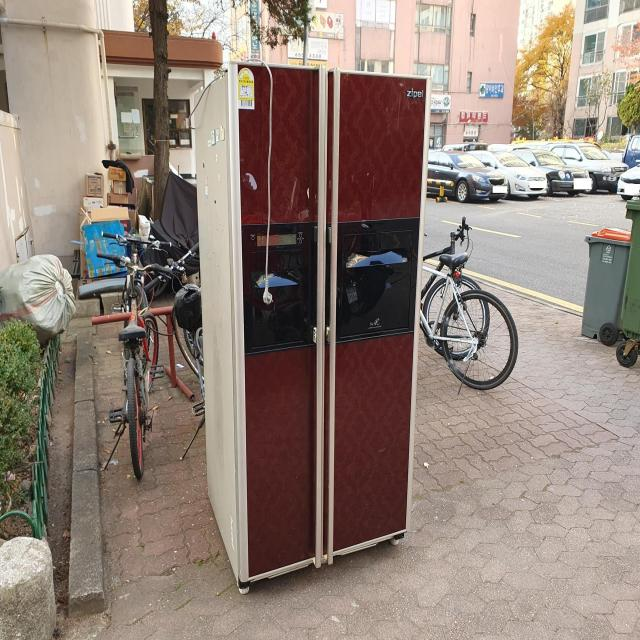refrigerator: (189, 57, 433, 596)
